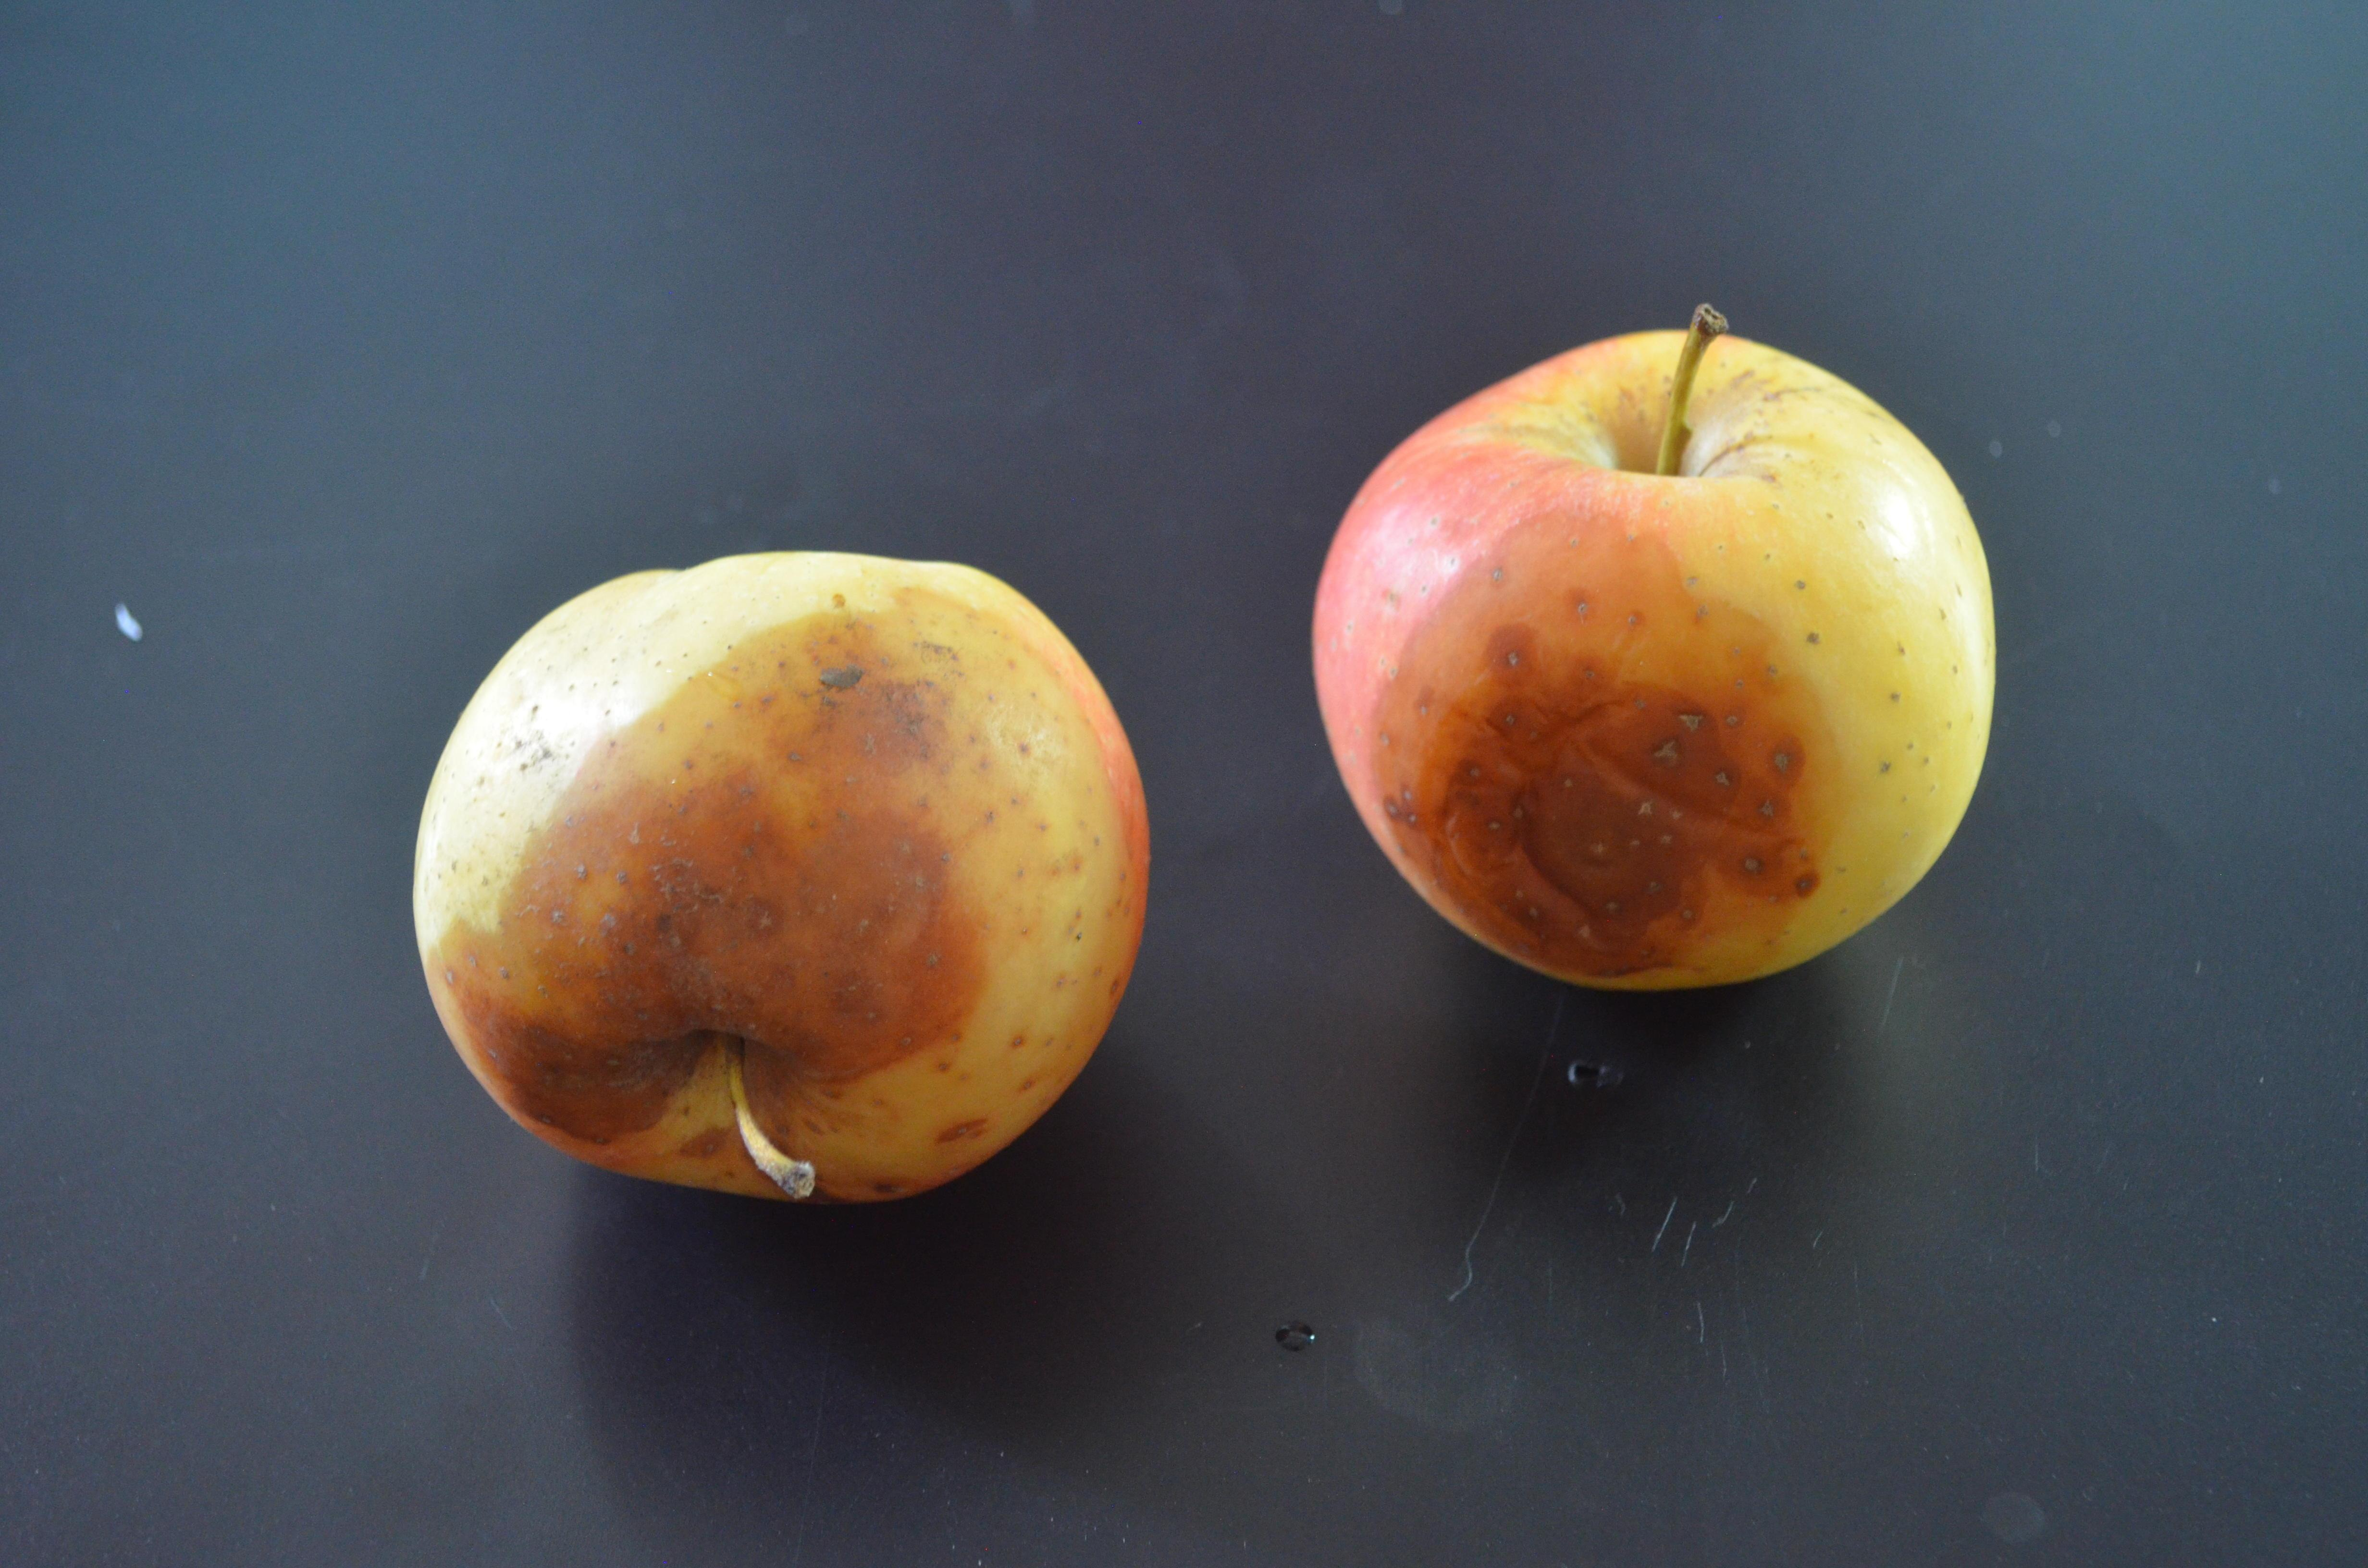apple: (401, 541, 1166, 1216), (1309, 306, 2002, 1010)
